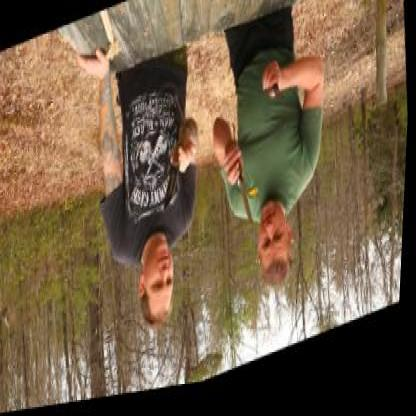knife: (221, 148, 264, 262), (260, 71, 292, 128)
